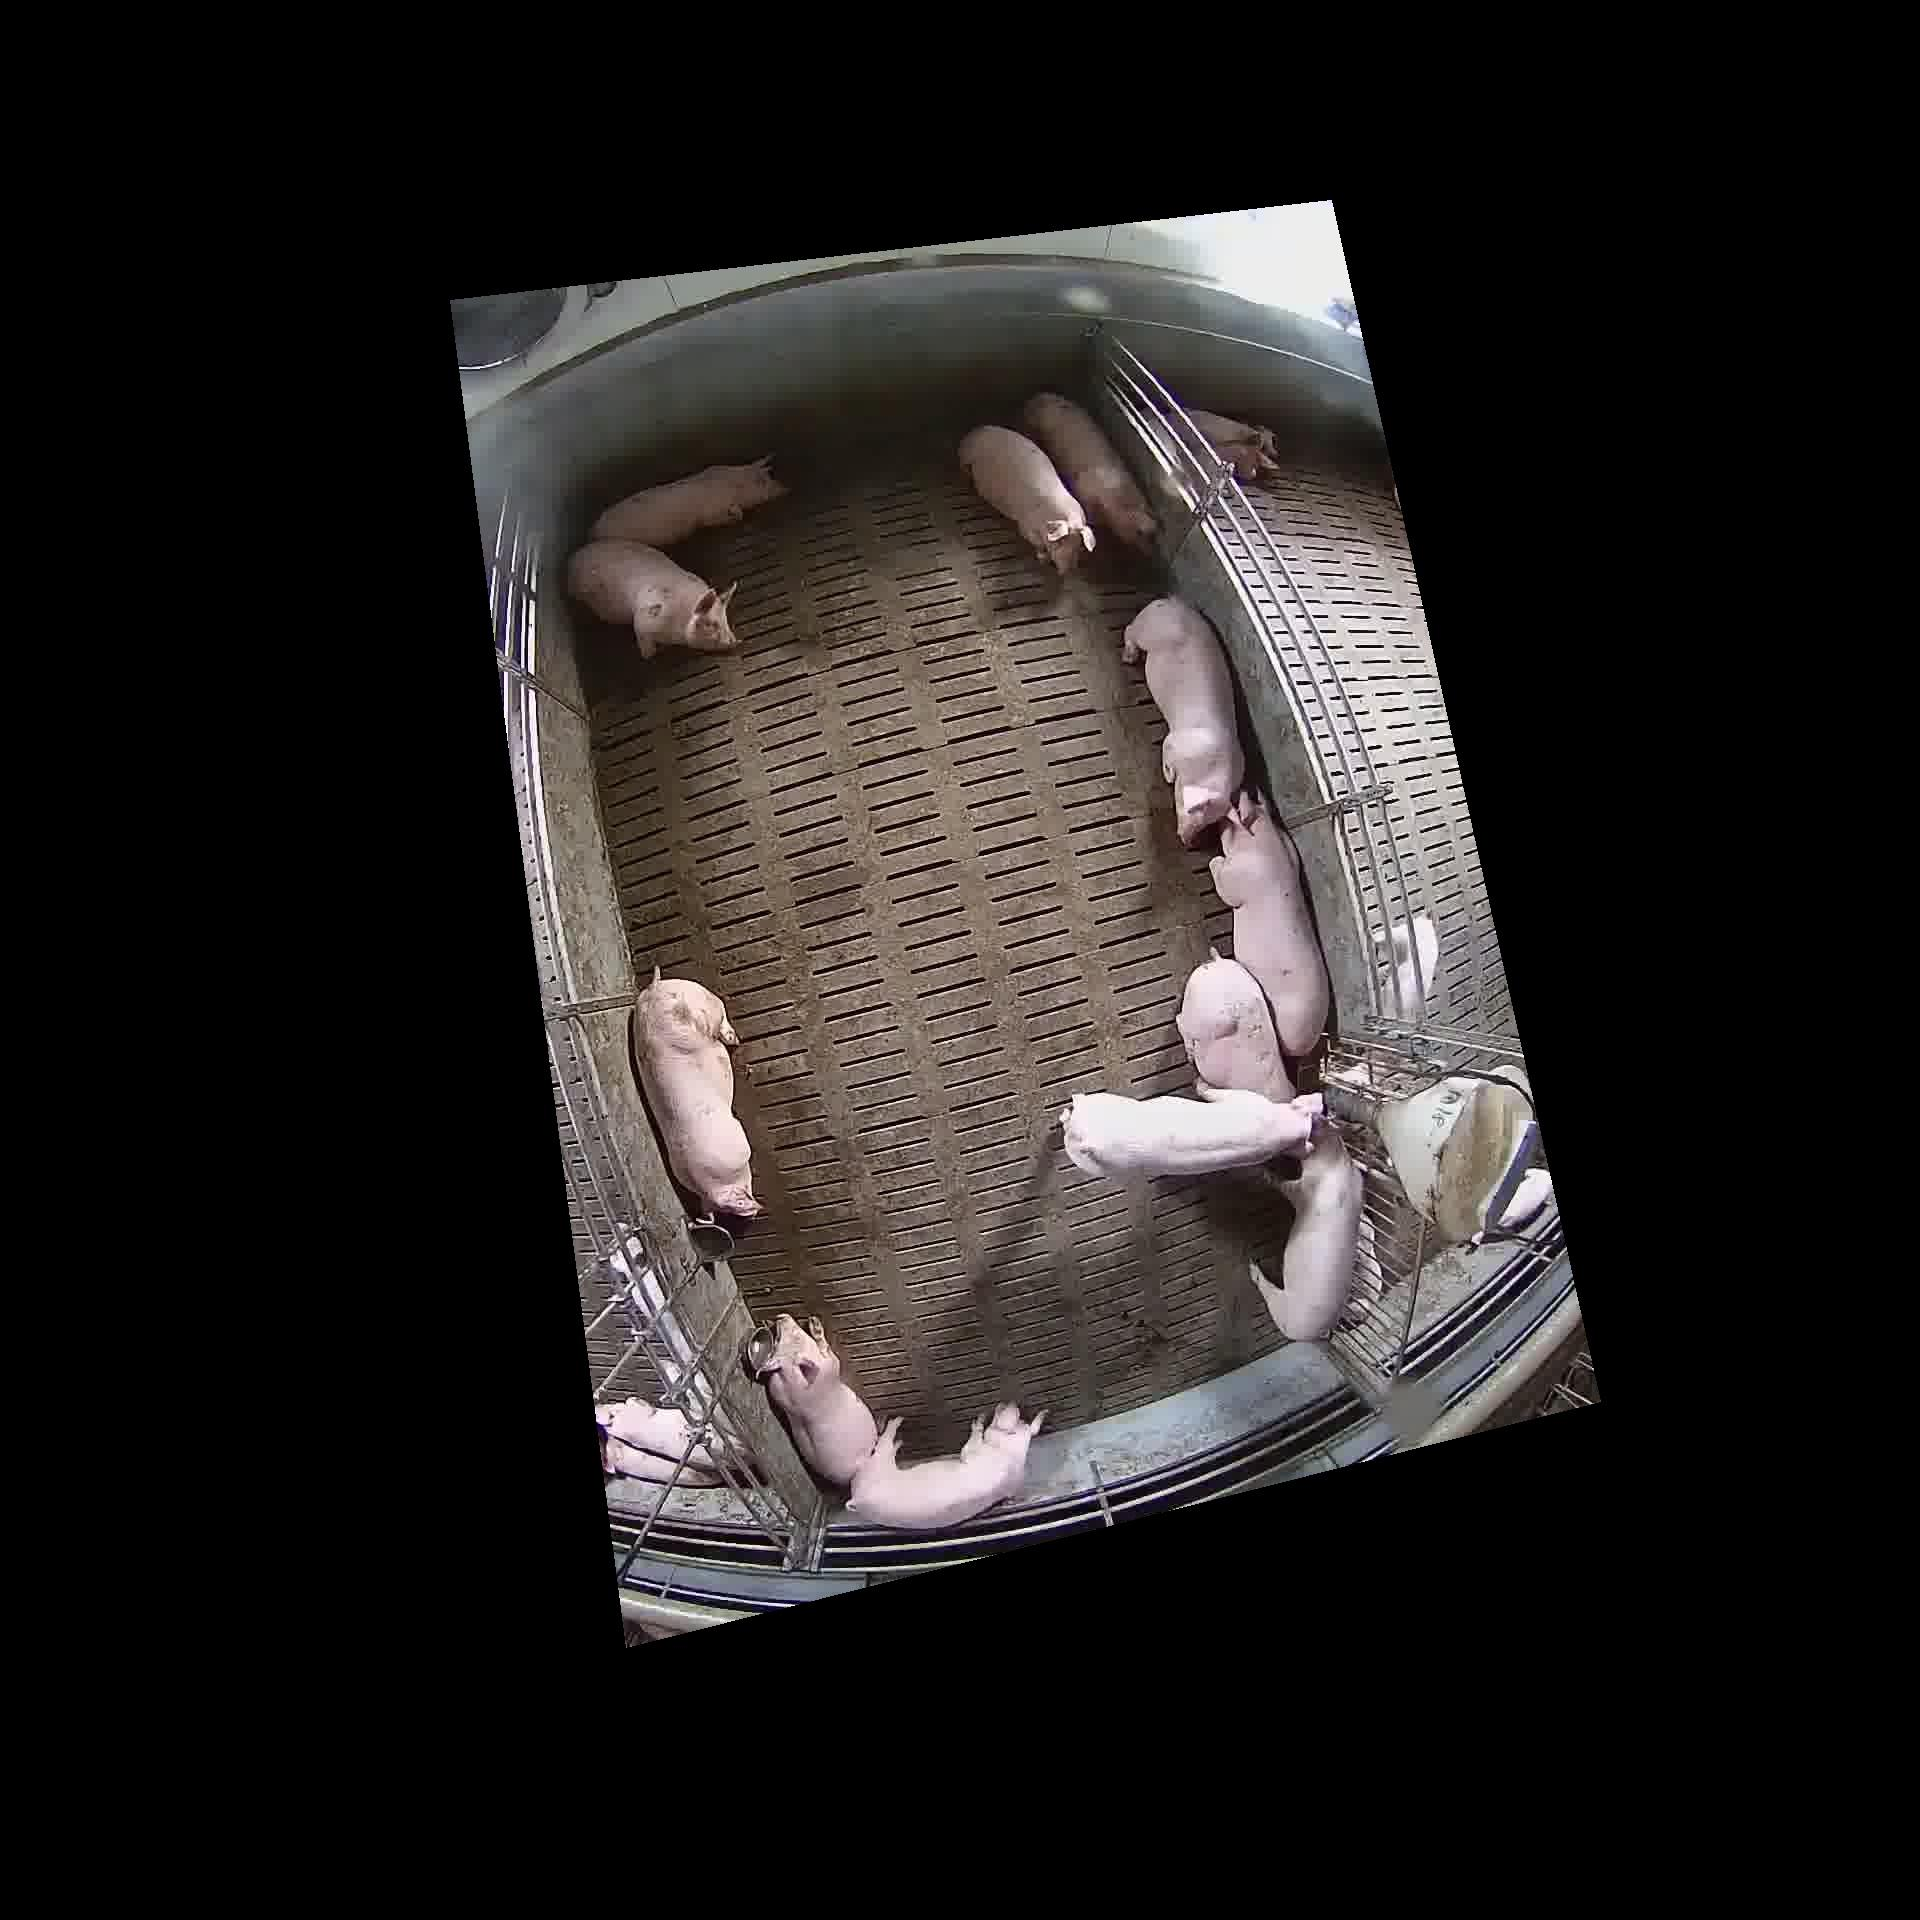pig: (1206, 788, 1327, 1058), (1124, 596, 1241, 844), (633, 971, 747, 1210), (1060, 1087, 1320, 1182), (847, 1405, 1041, 1524), (1252, 1125, 1359, 1340), (758, 1313, 879, 1487), (568, 536, 737, 656), (1027, 403, 1148, 564), (960, 425, 1092, 573), (587, 450, 782, 543), (1176, 960, 1284, 1087), (1180, 962, 1278, 1083)
